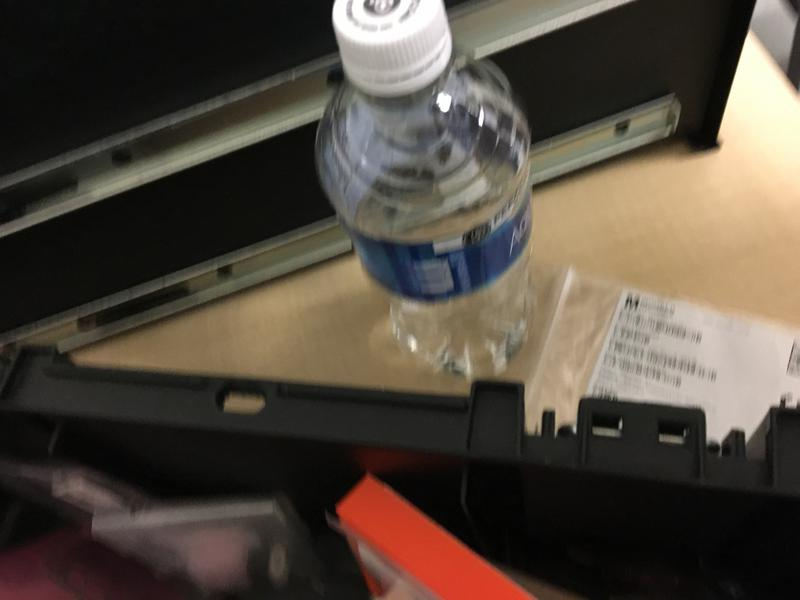bottle: (312, 1, 541, 383)
